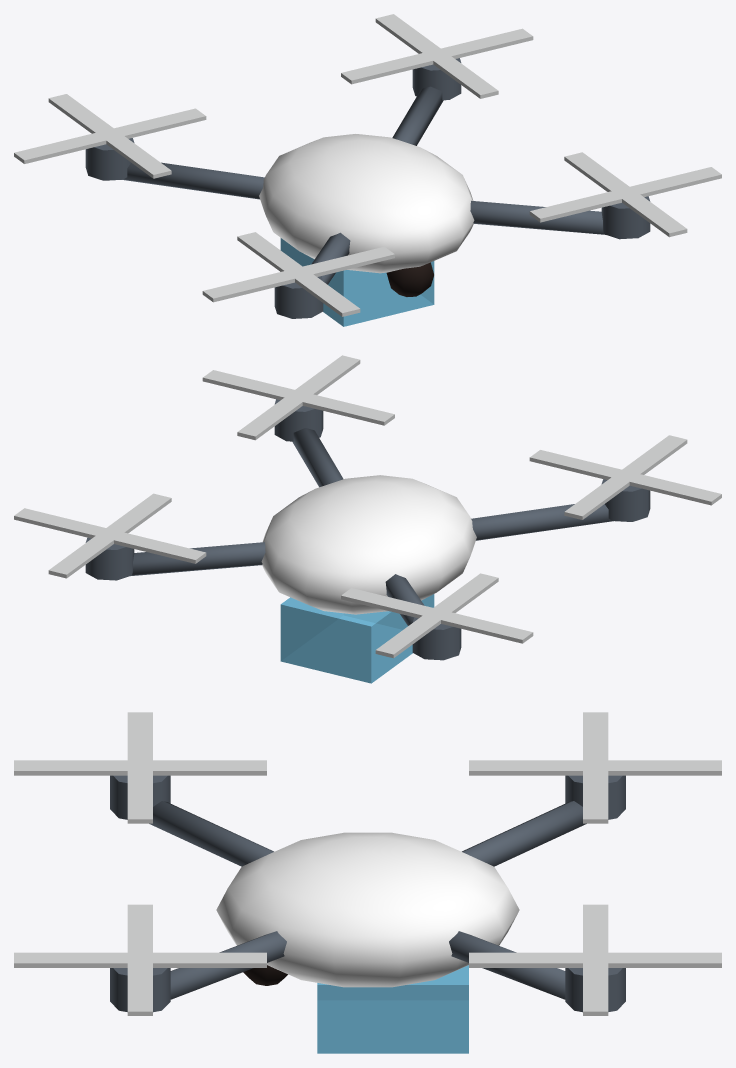
Rendered from drone.glb.
The picture shows the model from 3 angles, top to bottom: view 1: azimuth 30°, elevation 25°; view 2: azimuth 150°, elevation 25°; view 3: azimuth 270°, elevation 25°; orthographic projection. The views are drawn at different scales.
Visible parts, largest first — view 1: DroneBody, Rotor2Mesh, Rotor3Mesh, Rotor4Mesh, Rotor1Mesh; view 2: DroneBody, Rotor3Mesh, Rotor4Mesh, Rotor1Mesh, Rotor2Mesh; view 3: DroneBody, Rotor1Mesh, Rotor3Mesh, Rotor2Mesh, Rotor4Mesh.
Part boxes in pixels (x1,y1,x2,y2): DroneBody: (85,58,650,326); Rotor2Mesh: (529,152,721,237); Rotor3Mesh: (14,94,206,178); Rotor4Mesh: (341,14,533,98); Rotor1Mesh: (202,232,394,316); DroneBody: (85,399,650,683); Rotor3Mesh: (341,573,533,658); Rotor4Mesh: (14,493,206,578); Rotor1Mesh: (529,435,721,519); Rotor2Mesh: (202,355,394,440); DroneBody: (110,775,625,1053); Rotor1Mesh: (14,712,266,823); Rotor3Mesh: (469,712,721,823); Rotor2Mesh: (14,904,266,1015); Rotor4Mesh: (469,904,721,1015).
Size of the model in its own units: 1.4 by 0.38 by 1.4.
